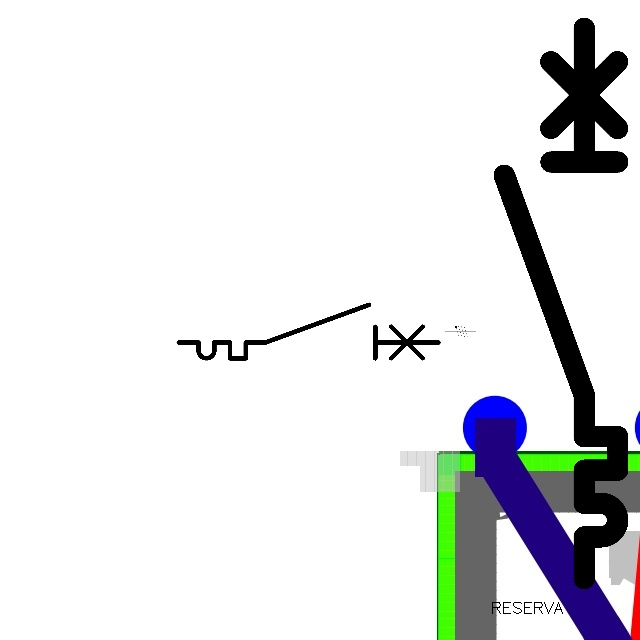interruptor_termomagnetico: (490, 14, 632, 593), (172, 298, 445, 365)
